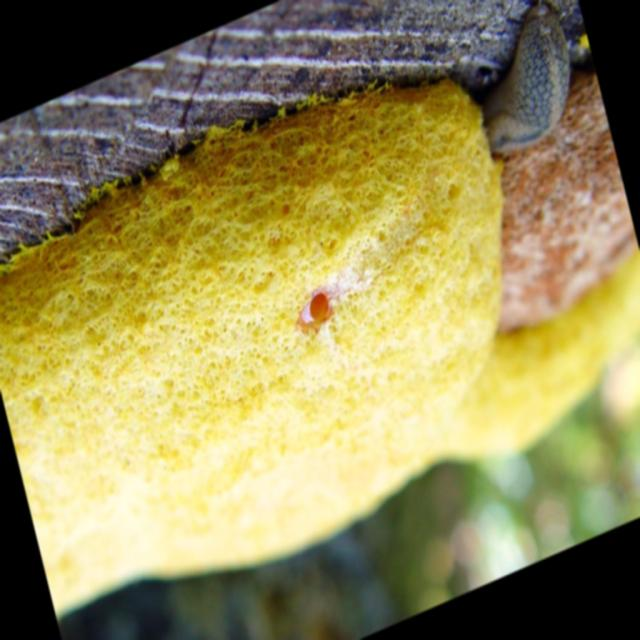Dog_vomit_slime_mold: (2, 147, 640, 505)
